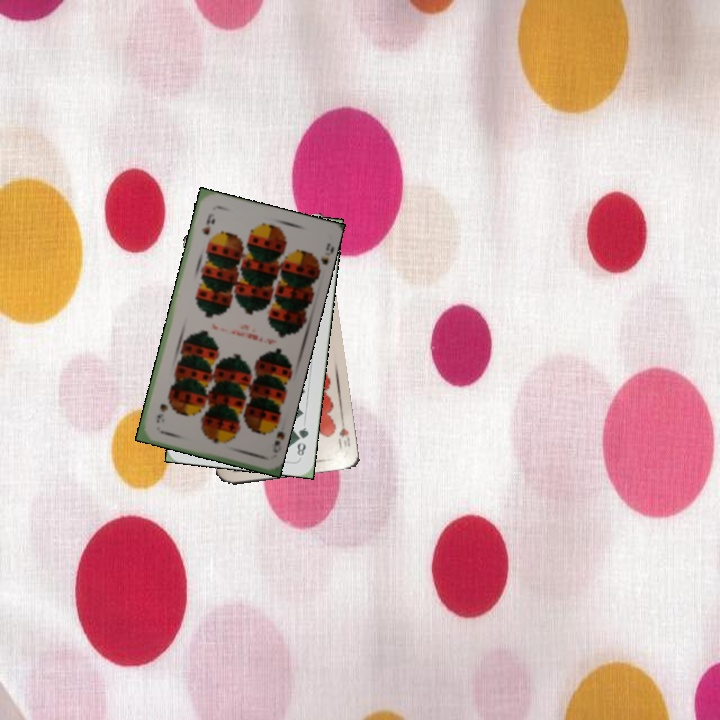G8: (292, 423, 311, 460)
H10: (334, 414, 353, 452)
S9: (266, 418, 283, 455), (198, 209, 217, 238)
